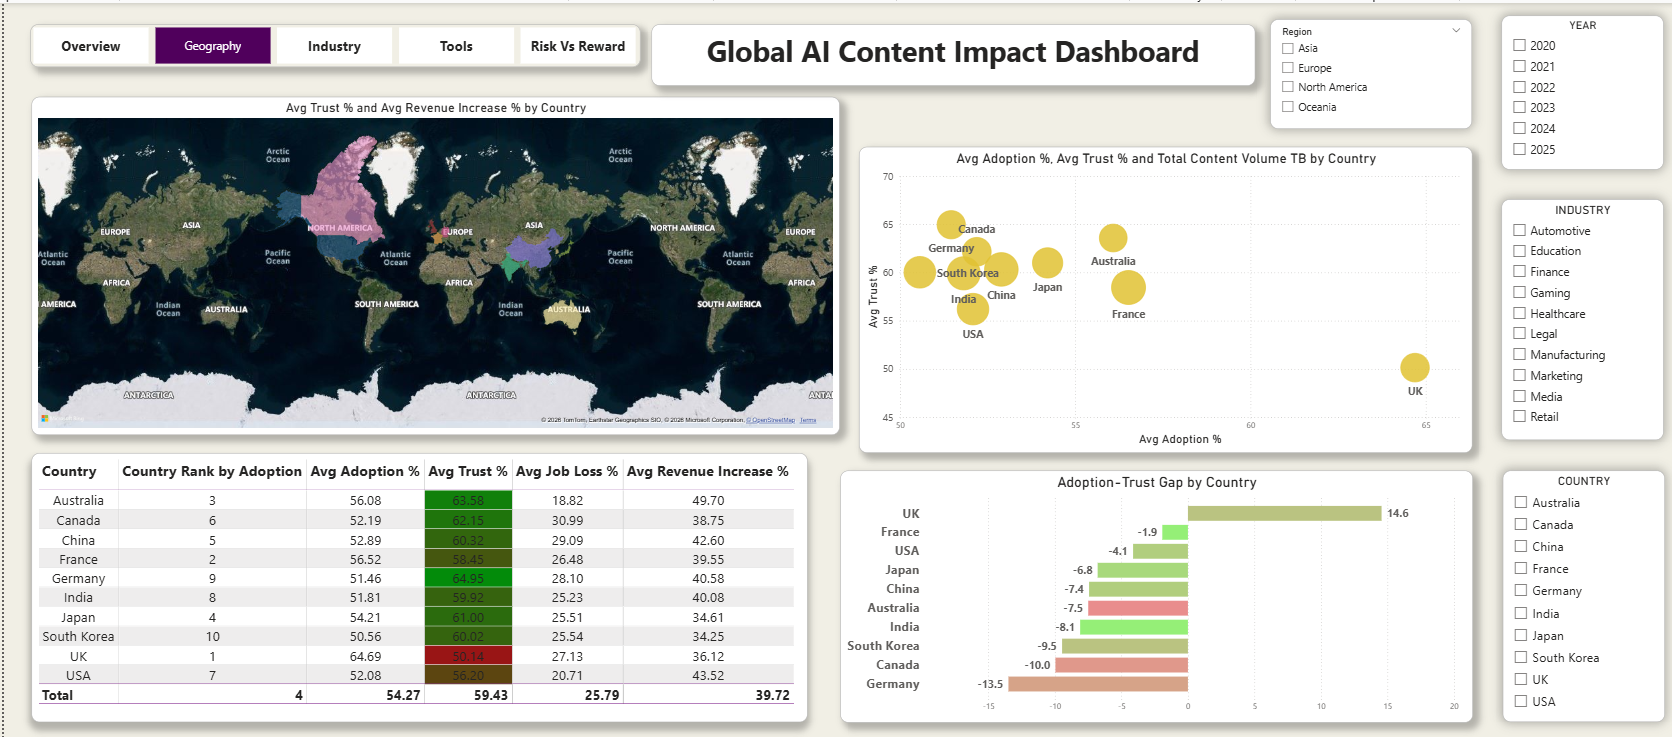

What the dashboard file says about the page in this screenshot:
{"tool":"powerbi","page":{"name":"Geograpghy","canvas":[2500,1100],"ordinal":1},"visuals":[{"type":"filledMap","fields":{"Category":["AI_Content_Impact_Cleaned.Country"]},"box":[41.6,140.1,1208,505.5],"z":0,"group":"g1"},{"type":"slicer","title":"YEAR","fields":{"Values":["AI_Content_Impact_Cleaned.Year"]},"box":[2219.7,24.1,242.6,230.6],"z":1000},{"type":"scatterChart","fields":{"X":["Measures Table.Avg Adoption %"],"Y":["Measures Table.Avg Trust %"],"Category":["AI_Content_Impact_Cleaned.Country"],"Size":["Measures Table.Total Content Volume TB"]},"box":[1278,214.5,916.9,457.4],"z":1000,"group":"g1"},{"type":"slicer","title":"COUNTRY","fields":{"Values":["AI_Content_Impact_Cleaned.Country"]},"box":[2219.7,697.8,242.6,377],"z":2000},{"type":"clusteredBarChart","fields":{"Category":["AI_Content_Impact_Cleaned.Country"],"Y":["Measures Table.Adoption-Trust Gap"]},"box":[1249.6,698.1,945.4,376.4],"z":2000,"group":"g1"},{"type":"slicer","fields":{"Values":["AI_Content_Impact_Cleaned.Region"]},"box":[1893,24.1,302,164.1],"z":2500,"group":"g1"},{"type":"slicer","title":"INDUSTRY","fields":{"Values":["AI_Content_Impact_Cleaned.Industry"]},"box":[2219,295.4,242.9,376.4],"z":3000},{"type":"tableEx","fields":{"Values":["AI_Content_Impact_Cleaned.Country","Measures Table.Country Rank by Adoption","Measures Table.Avg Adoption %","Measures Table.Avg Trust %","Measures Table.Avg Job Loss %","Measures Table.Avg Revenue Increase %"]},"box":[41.6,671.9,1159.8,402.7],"z":3000,"group":"g1"},{"type":"group","id":"g1","title":"Geography","box":[41.6,24.1,2153.4,1050.4],"z":4000}]}

Visuals, with their boxes in screenshot pixels (x1, y1, x2, y2), scaled from the page's 2500x1100 canvas onto the 1672x737 screenshot:
filledMap - AI_Content_Impact_Cleaned.Country: x1=28 y1=94 x2=836 y2=433
"YEAR" slicer: x1=1485 y1=16 x2=1647 y2=171
scatterChart - Measures Table.Avg Adoption % x Measures Table.Avg Trust %: x1=855 y1=144 x2=1468 y2=450
"COUNTRY" slicer: x1=1485 y1=468 x2=1647 y2=720
clusteredBarChart - AI_Content_Impact_Cleaned.Country x Measures Table.Adoption-Trust Gap: x1=836 y1=468 x2=1468 y2=720
slicer - AI_Content_Impact_Cleaned.Region: x1=1266 y1=16 x2=1468 y2=126
"INDUSTRY" slicer: x1=1484 y1=198 x2=1647 y2=450
tableEx - AI_Content_Impact_Cleaned.Country x Measures Table.Country Rank by Adoption: x1=28 y1=450 x2=803 y2=720
"Geography" group: x1=28 y1=16 x2=1468 y2=720
